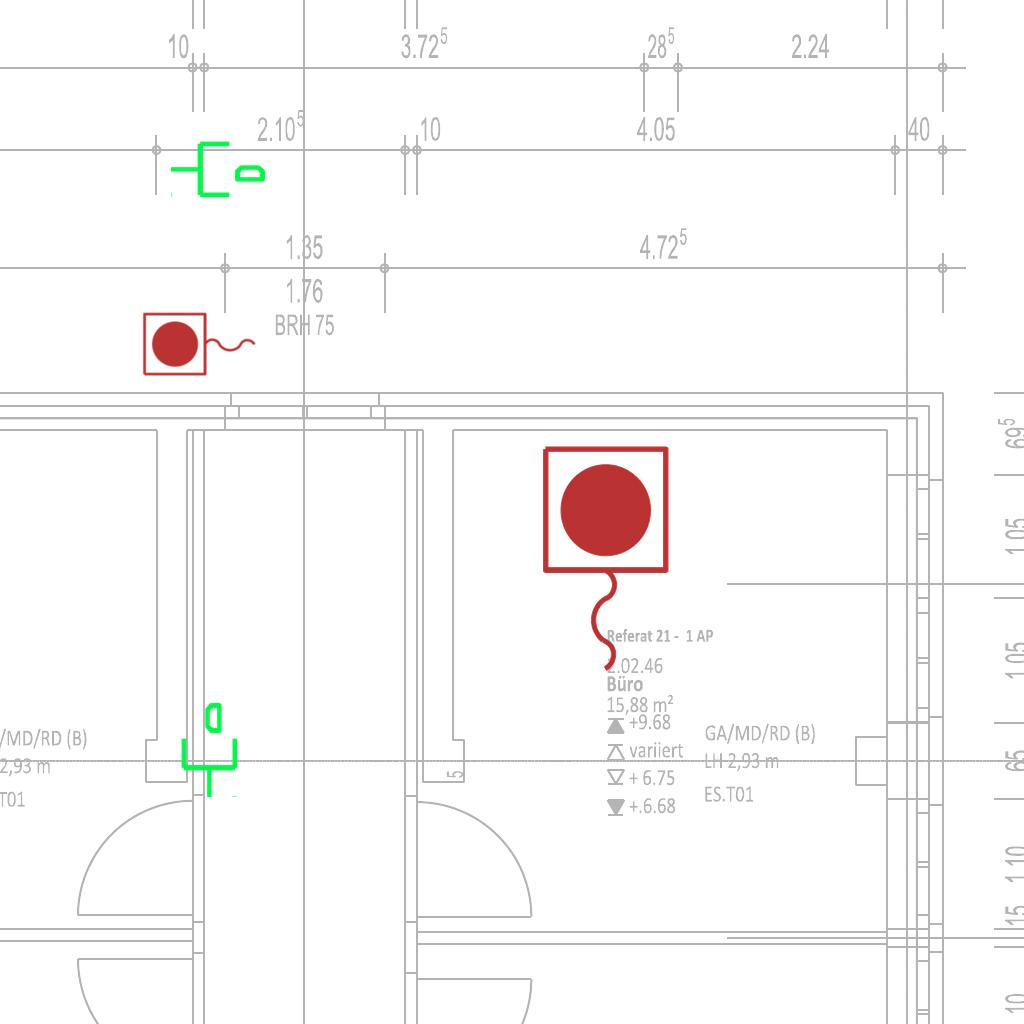Datenanschluss_einfach: (173, 700, 242, 800), (168, 133, 268, 202)
Zugtaster: (532, 438, 676, 682), (139, 309, 261, 381)
